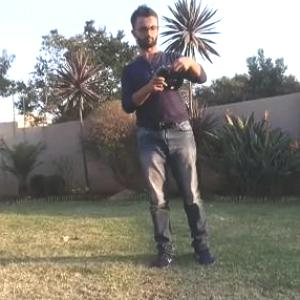follow: (114, 0, 220, 273)
